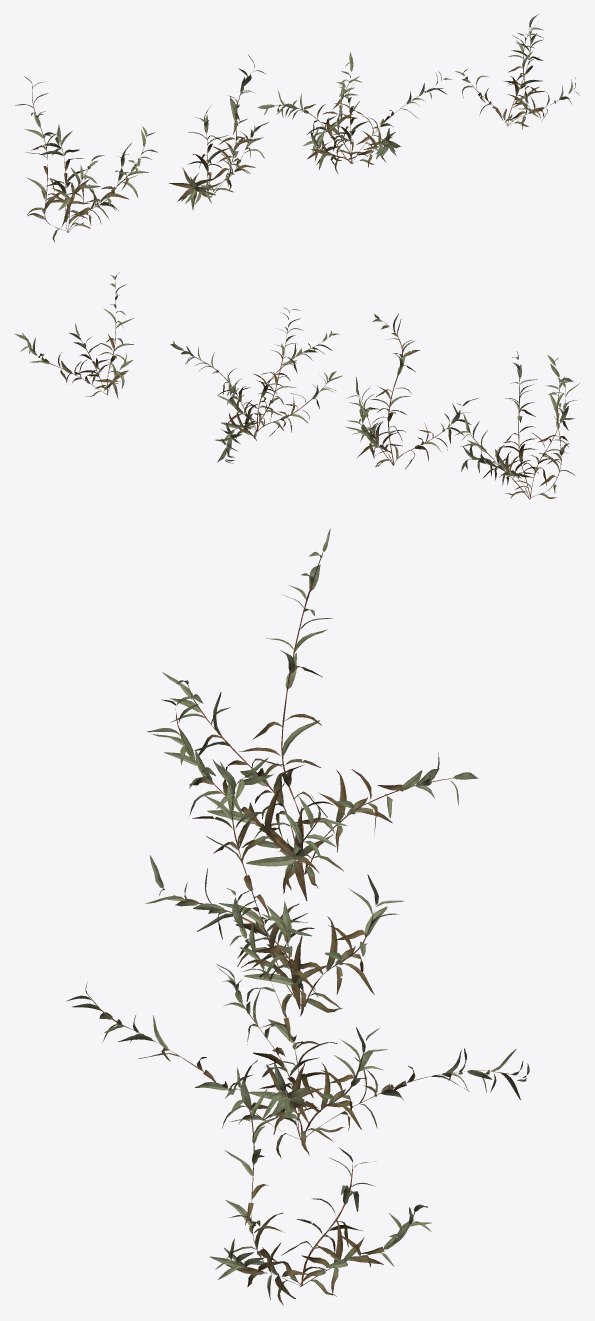
File: runtime-lod.glb
3 views of the same model, one above another, from view 1: azimuth 30°, elevation 25°; view 2: azimuth 150°, elevation 25°; view 3: azimuth 270°, elevation 25° (orthographic). The views are drawn at different scales.
Visible parts, largest first — view 1: shrub_02_a; view 2: shrub_02_a; view 3: shrub_02_a.
Part boxes in pixels (box(x1,y1,x2,y2)): shrub_02_a: box(15, 14, 579, 242); shrub_02_a: box(14, 272, 579, 499); shrub_02_a: box(66, 528, 529, 1305).
Bounding box in the file's own units: 6.05 × 1.7 × 2.29.
Materials: 1 (1 with a texture image).
